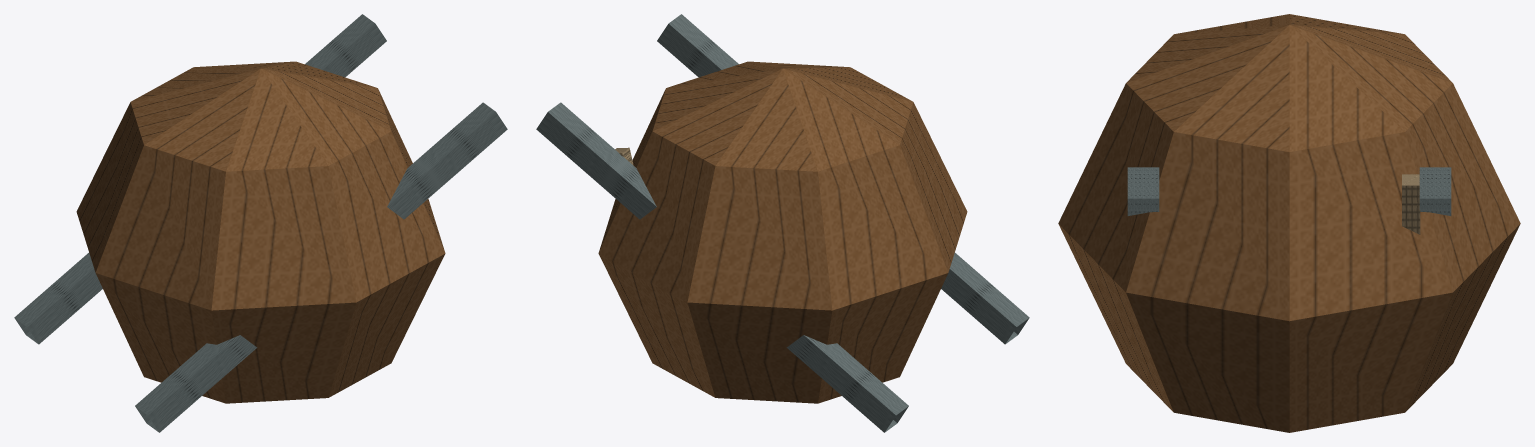
The model's file is military-INFERNO_BALL-1-lod0.glb.
The picture shows the model from 3 angles, left to right: view 1: azimuth 30°, elevation 25°; view 2: azimuth 150°, elevation 25°; view 3: azimuth 270°, elevation 25°; orthographic projection. The views are drawn at different scales.
Size of the model in its own units: 0.4134 by 0.36 by 0.38.
Materials: 1 (1 with a texture image).
